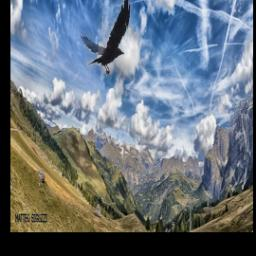Crow: (78, 0, 131, 74)
